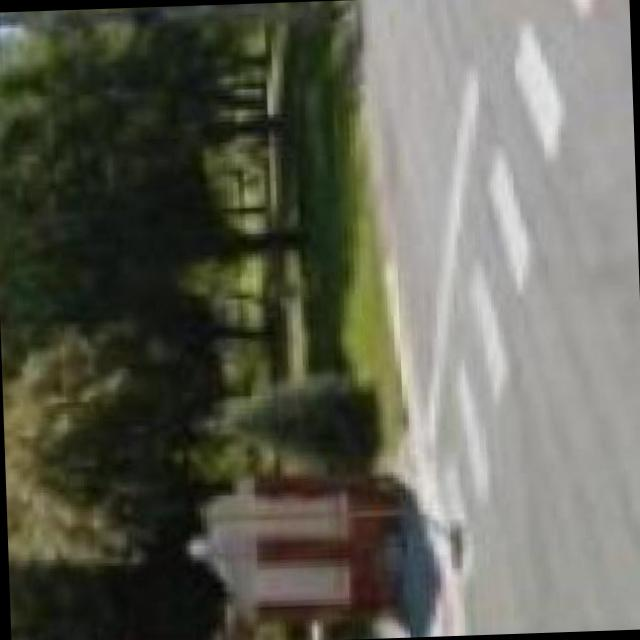zebra: (405, 0, 597, 569)
